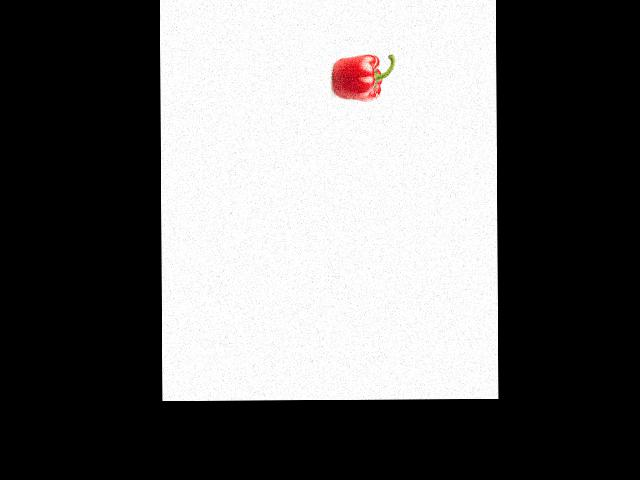bell_pepper: (331, 52, 395, 100)
